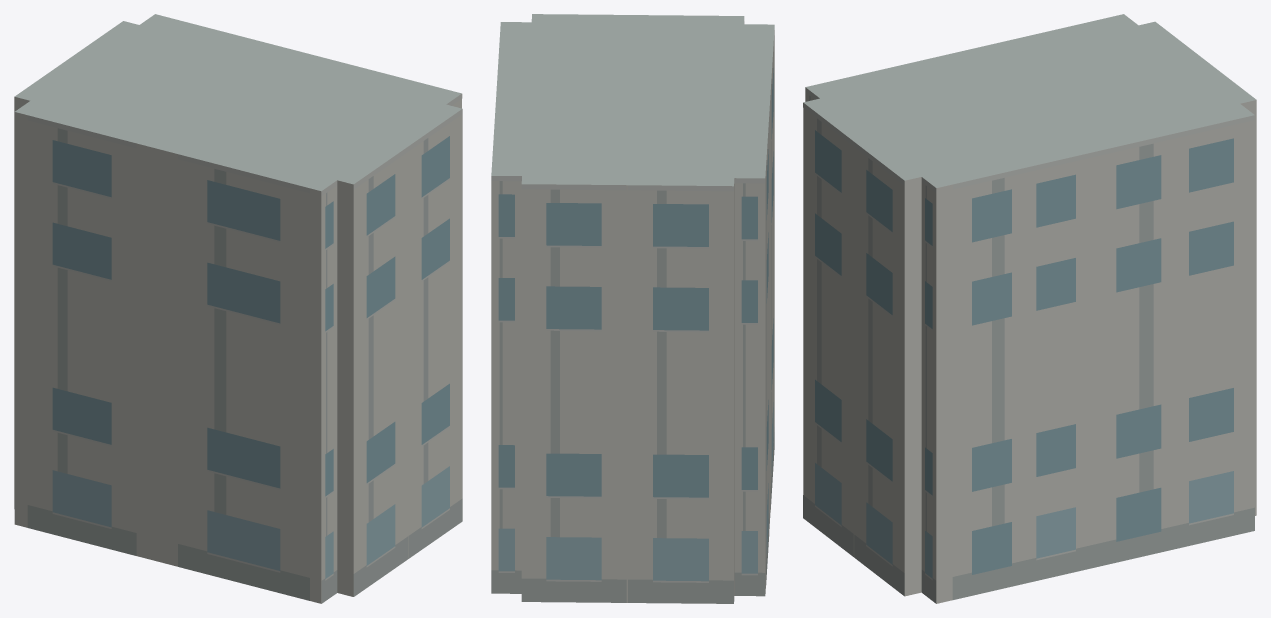
File: survey-upis-32846489.glb
3 views of the same model, side by side, from view 1: azimuth 30°, elevation 25°; view 2: azimuth 150°, elevation 25°; view 3: azimuth 270°, elevation 25° (orthographic).
Parts seen in each view (by area): view 1: survey-upis-32846489.tmp; view 2: survey-upis-32846489.tmp; view 3: survey-upis-32846489.tmp.
Boxes of the visible parts, <box> form: survey-upis-32846489.tmp: <box>14,14,462,603</box>; survey-upis-32846489.tmp: <box>491,14,774,603</box>; survey-upis-32846489.tmp: <box>803,14,1256,603</box>.
Bounding box in the file's own units: 17.53 × 19.5 × 19.3.
